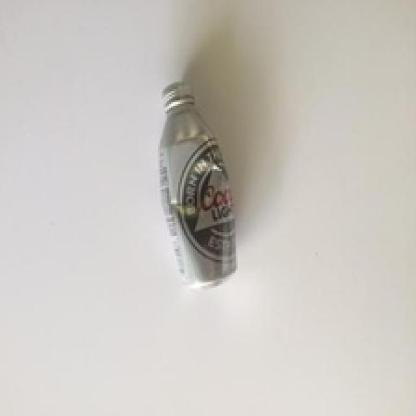Can: (155, 79, 239, 292)
